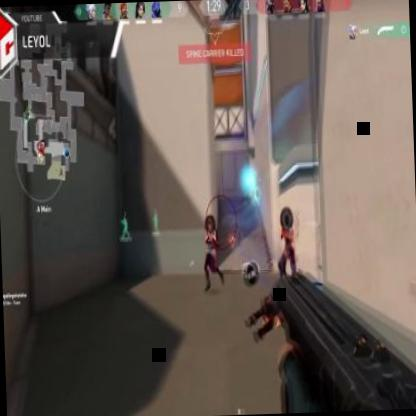enemy: (202, 216, 224, 290), (278, 213, 298, 287)
enemy_head: (282, 215, 289, 229), (207, 218, 213, 232)
